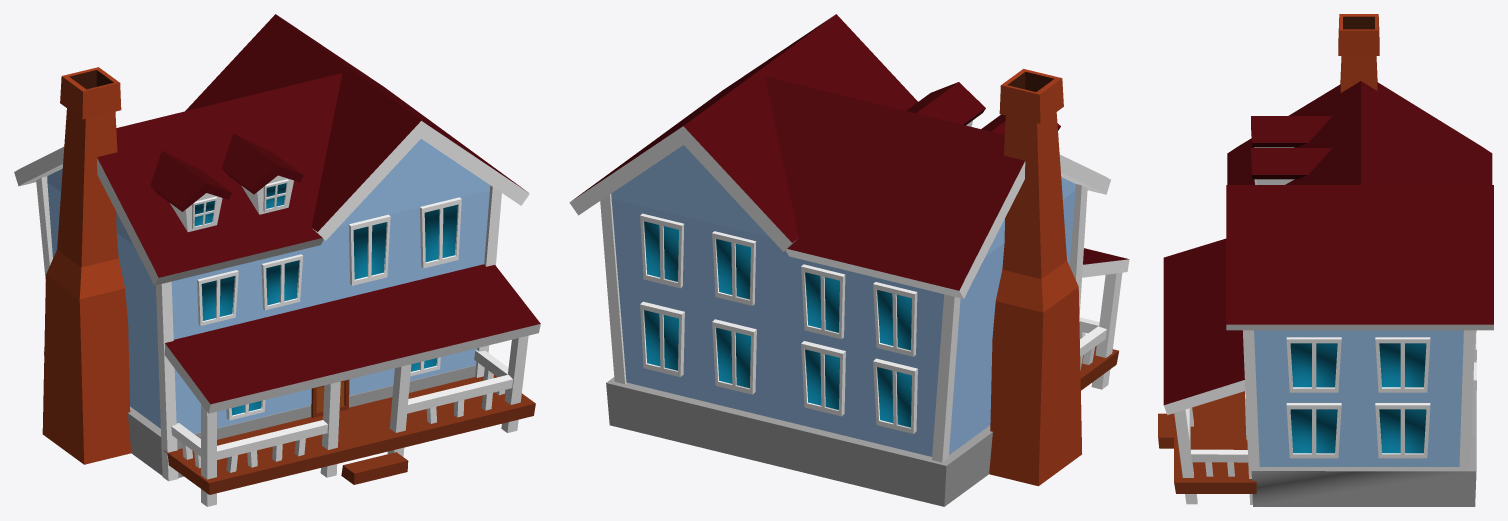
Rendered from Big_House_2.fbx.
3 views of the same model, side by side, from view 1: azimuth 30°, elevation 25°; view 2: azimuth 150°, elevation 25°; view 3: azimuth 270°, elevation 25° (orthographic). The views are drawn at different scales.
Visible parts, largest first — view 1: Big_House_Roof, Big_House_Poarch_Roof, Big_House_Walls, Big_House_Chimney, Big_House_Columns, Big_House_Poarch, Barn_Big_Window_Front, Big_House_High_Windows, Big_House_Base, Big_House_Door; view 2: Big_House_Roof, Big_House_Walls, Big_House_Chimney, Barn_Big_Window_Back, Big_House_Base, Big_House_Columns, Big_House_High_Windows, Big_House_Poarch_Roof, Big_House_Poarch; view 3: Big_House_Roof, Big_House_Walls, Barn_Big_Window_Side, Big_House_Poarch_Roof, Big_House_Base, Big_House_Poarch, Big_House_Columns, Big_House_High_Windows, Big_House_Chimney, Barn_Big_Window_Back.
Boxes of the visible parts, box(x1,y1,x2,y2) form: Big_House_Roof: box(14, 14, 529, 285); Big_House_Poarch_Roof: box(164, 264, 540, 413); Big_House_Walls: box(47, 139, 490, 433); Big_House_Chimney: box(42, 67, 130, 464); Big_House_Columns: box(36, 176, 528, 506); Big_House_Poarch: box(164, 375, 535, 494); Barn_Big_Window_Front: box(197, 197, 461, 420); Big_House_High_Windows: box(150, 133, 303, 231); Big_House_Base: box(44, 352, 475, 477); Big_House_Door: box(311, 379, 349, 417); Big_House_Roof: box(569, 14, 1110, 298); Big_House_Walls: box(611, 145, 1075, 456); Big_House_Chimney: box(989, 69, 1081, 486); Barn_Big_Window_Back: box(640, 213, 917, 433); Big_House_Base: box(606, 377, 992, 506); Big_House_Columns: box(600, 184, 1122, 462); Big_House_High_Windows: box(906, 82, 1060, 134); Big_House_Poarch_Roof: box(1082, 248, 1129, 277); Big_House_Poarch: box(1080, 346, 1118, 390); Big_House_Roof: box(1226, 81, 1493, 330); Big_House_Walls: box(1254, 330, 1463, 466); Barn_Big_Window_Side: box(1286, 337, 1430, 458); Big_House_Poarch_Roof: box(1163, 238, 1245, 414); Big_House_Base: box(1251, 401, 1476, 506); Big_House_Poarch: box(1158, 391, 1256, 493); Big_House_Columns: box(1174, 330, 1474, 504); Big_House_High_Windows: box(1251, 116, 1332, 184); Big_House_Chimney: box(1338, 14, 1379, 92); Barn_Big_Window_Back: box(1471, 330, 1476, 435).
Size of the model in its own units: 453 by 398 by 364.
